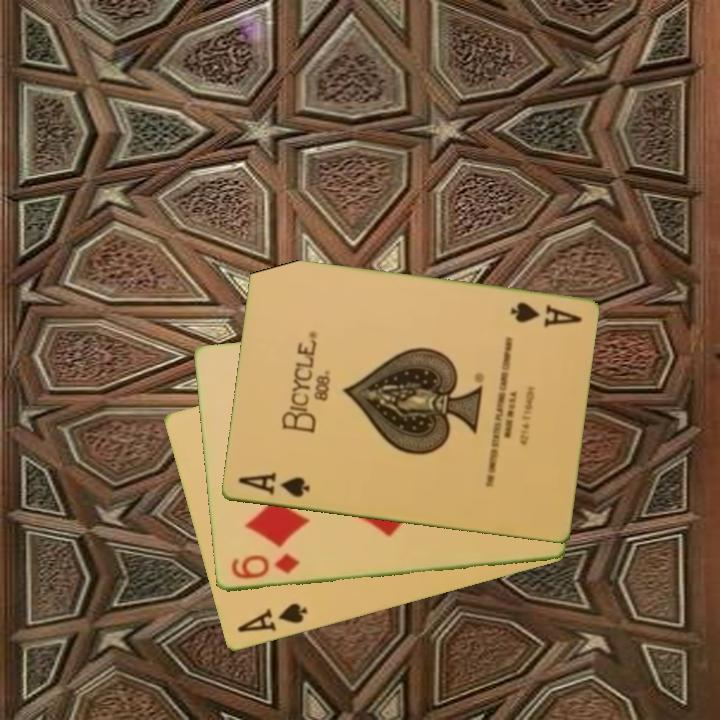6d: (227, 550, 302, 583)
As: (233, 600, 310, 636), (234, 469, 312, 501), (506, 299, 584, 331)
